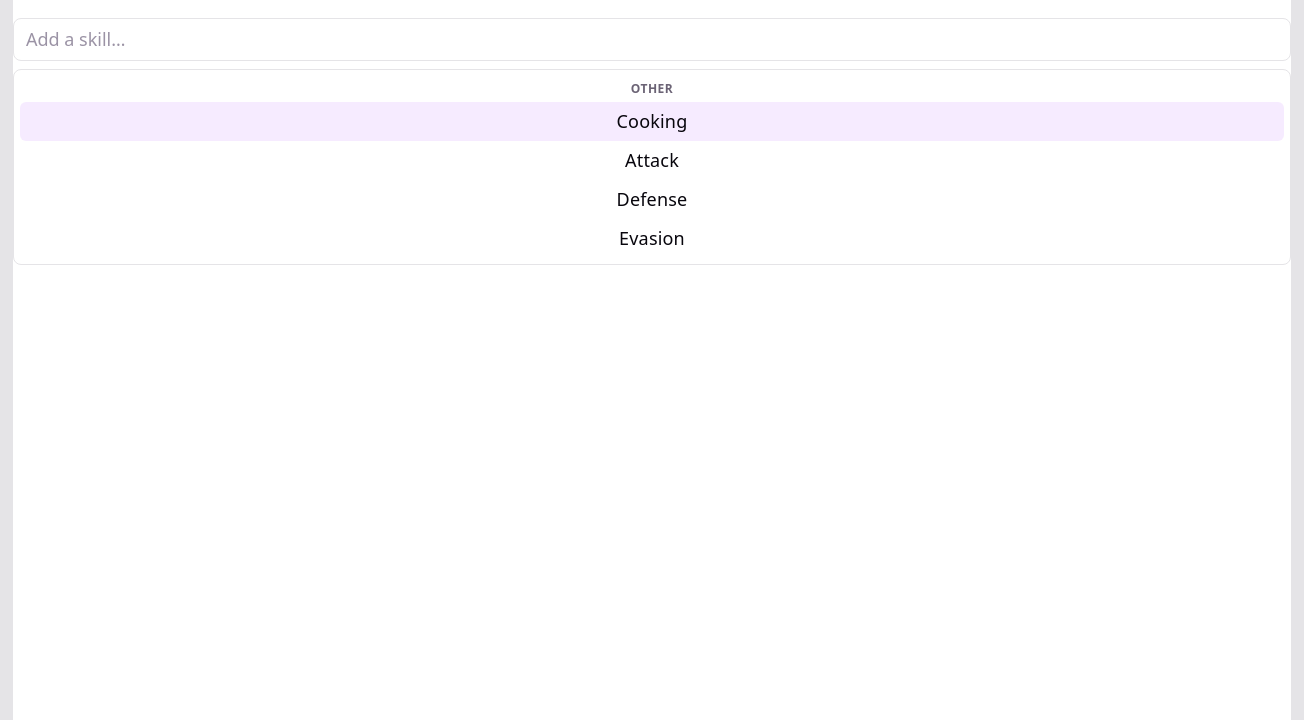
Test: SkillPicker › matches a skill by one of its tier labels, not just its own name (docs/feedback.md Round 2 #8)
Type "bbq master" into the field labelled "Add a skill…" at {"x": 652, "y": 40}, box [13,18,1291,61]
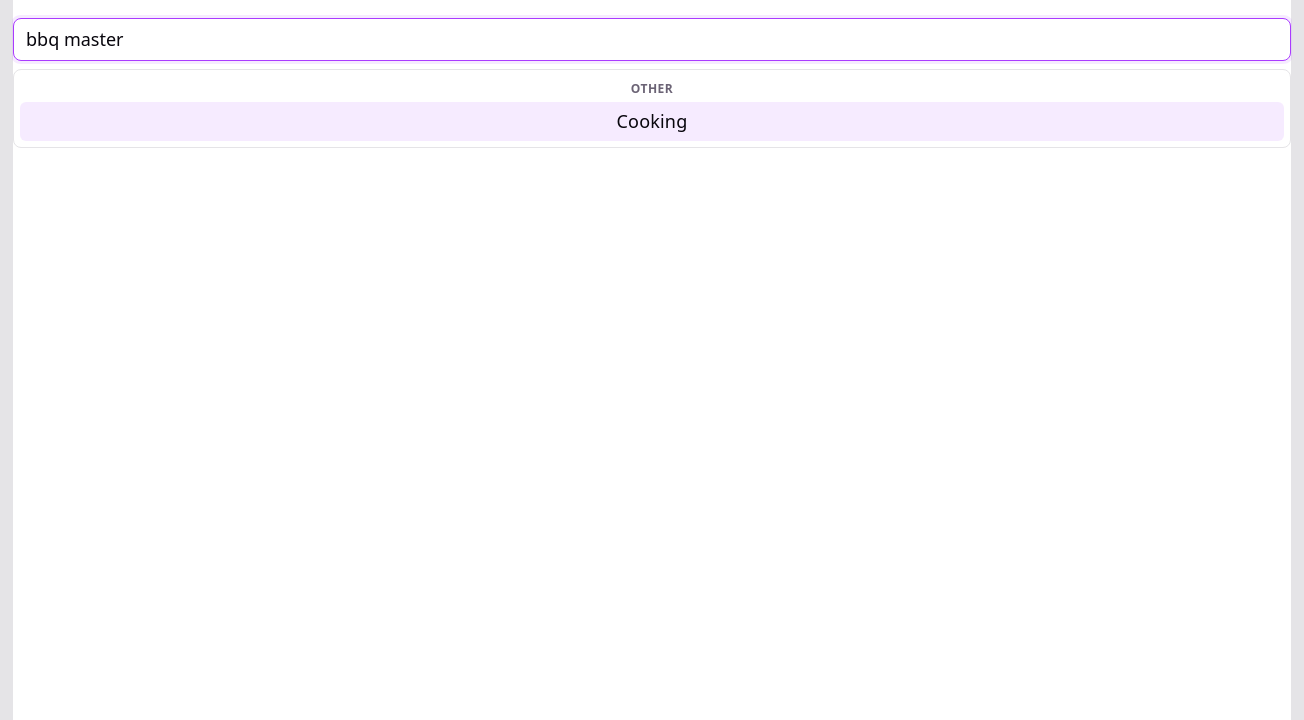
expect the button "Cooking" is shown: met, box [20,102,1284,141]
expect the button "Attack" is gone: met
